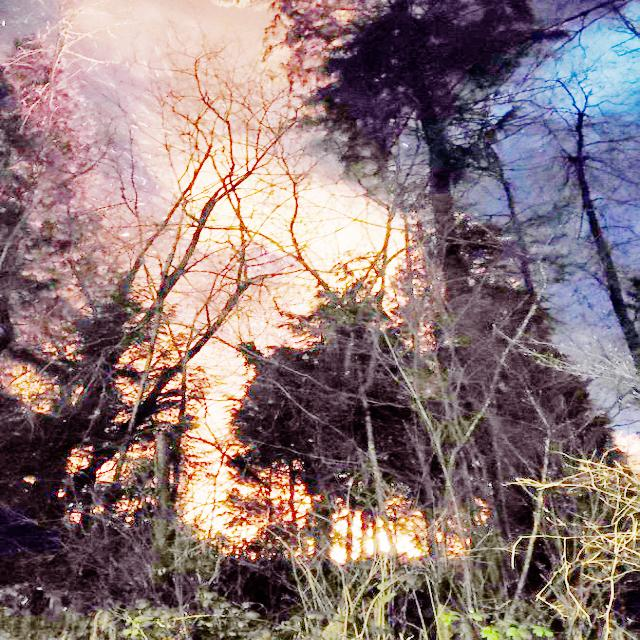api: (159, 350, 289, 555), (326, 505, 454, 568)
asap: (1, 1, 442, 331)
